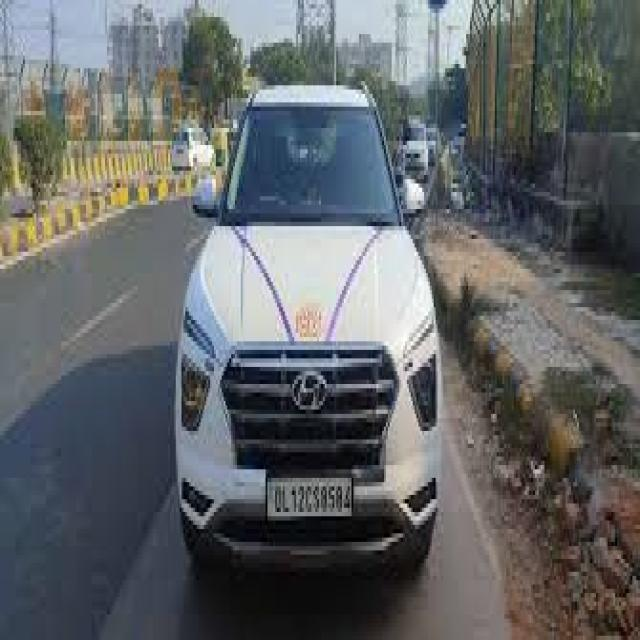SUV: (179, 74, 448, 581)
